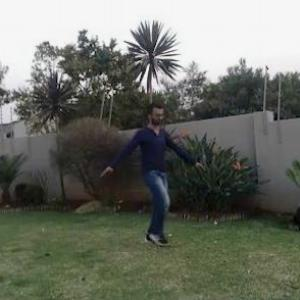land: (85, 86, 194, 264)
